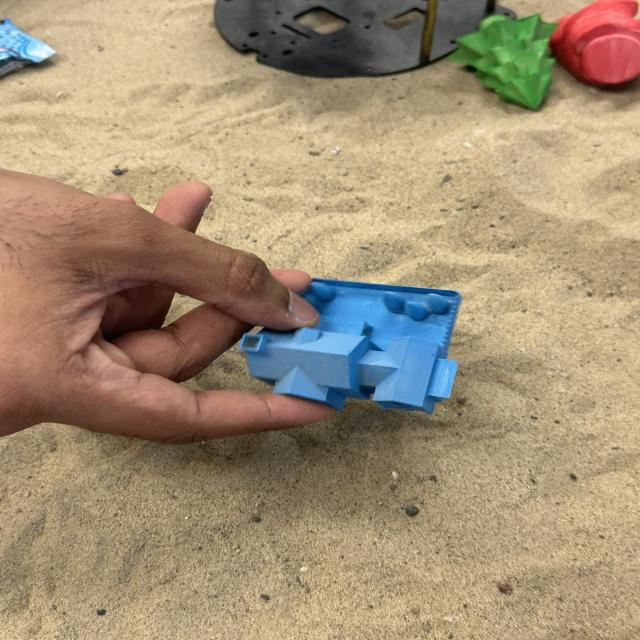fire: (550, 0, 640, 86)
house: (237, 276, 462, 414)
tree: (457, 12, 562, 110)
